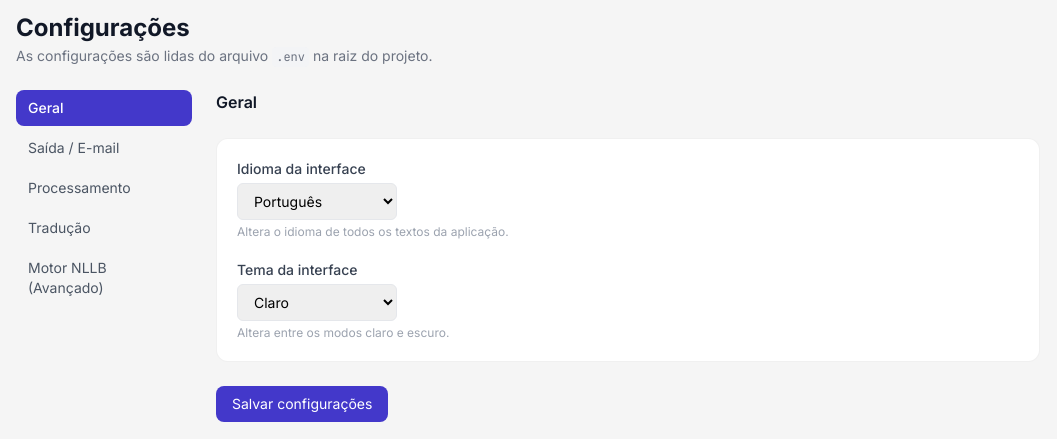
Scenario: ConfigPage — painel NLLB (Fase C) › renderiza o toggle NLLB desmarcado quando nllb_enabled=false
The width and height of the screenshot is (1057, 439).
Click the button "Motor NLLB (Avançado)" at (104, 278), box x1=16 y1=250 x2=192 y2=306
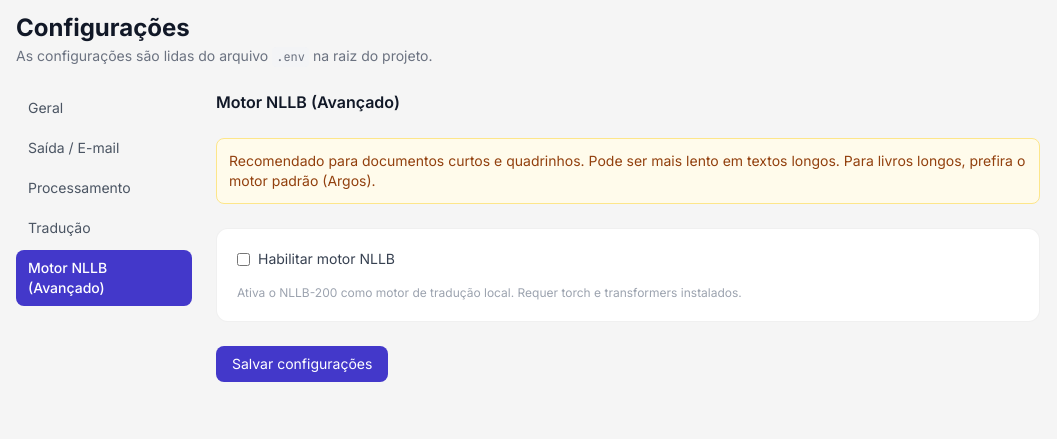
Now the checkbox labelled "Habilitar motor NLLB" is not checked, box x1=237 y1=252 x2=250 y2=266
